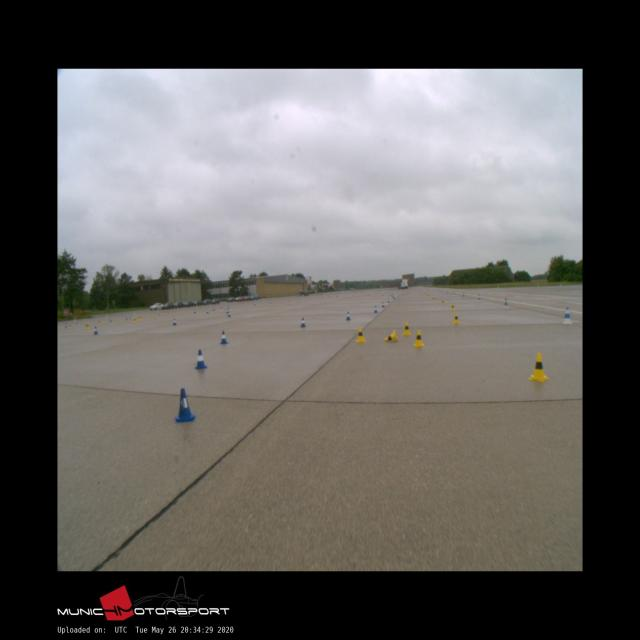blue_cone: (174, 389, 195, 421), (195, 350, 207, 368), (220, 331, 228, 344), (300, 317, 306, 327), (346, 312, 351, 320), (374, 306, 378, 312)
yellow_cone: (528, 354, 548, 382), (413, 331, 424, 346), (384, 331, 398, 342), (356, 328, 366, 341), (403, 322, 411, 335), (453, 313, 459, 324), (451, 303, 455, 311)
